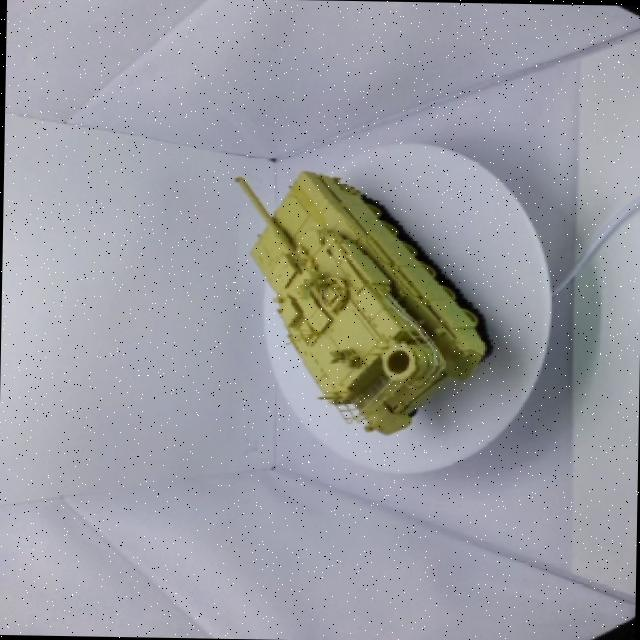korea tank: (197, 141, 508, 443)
